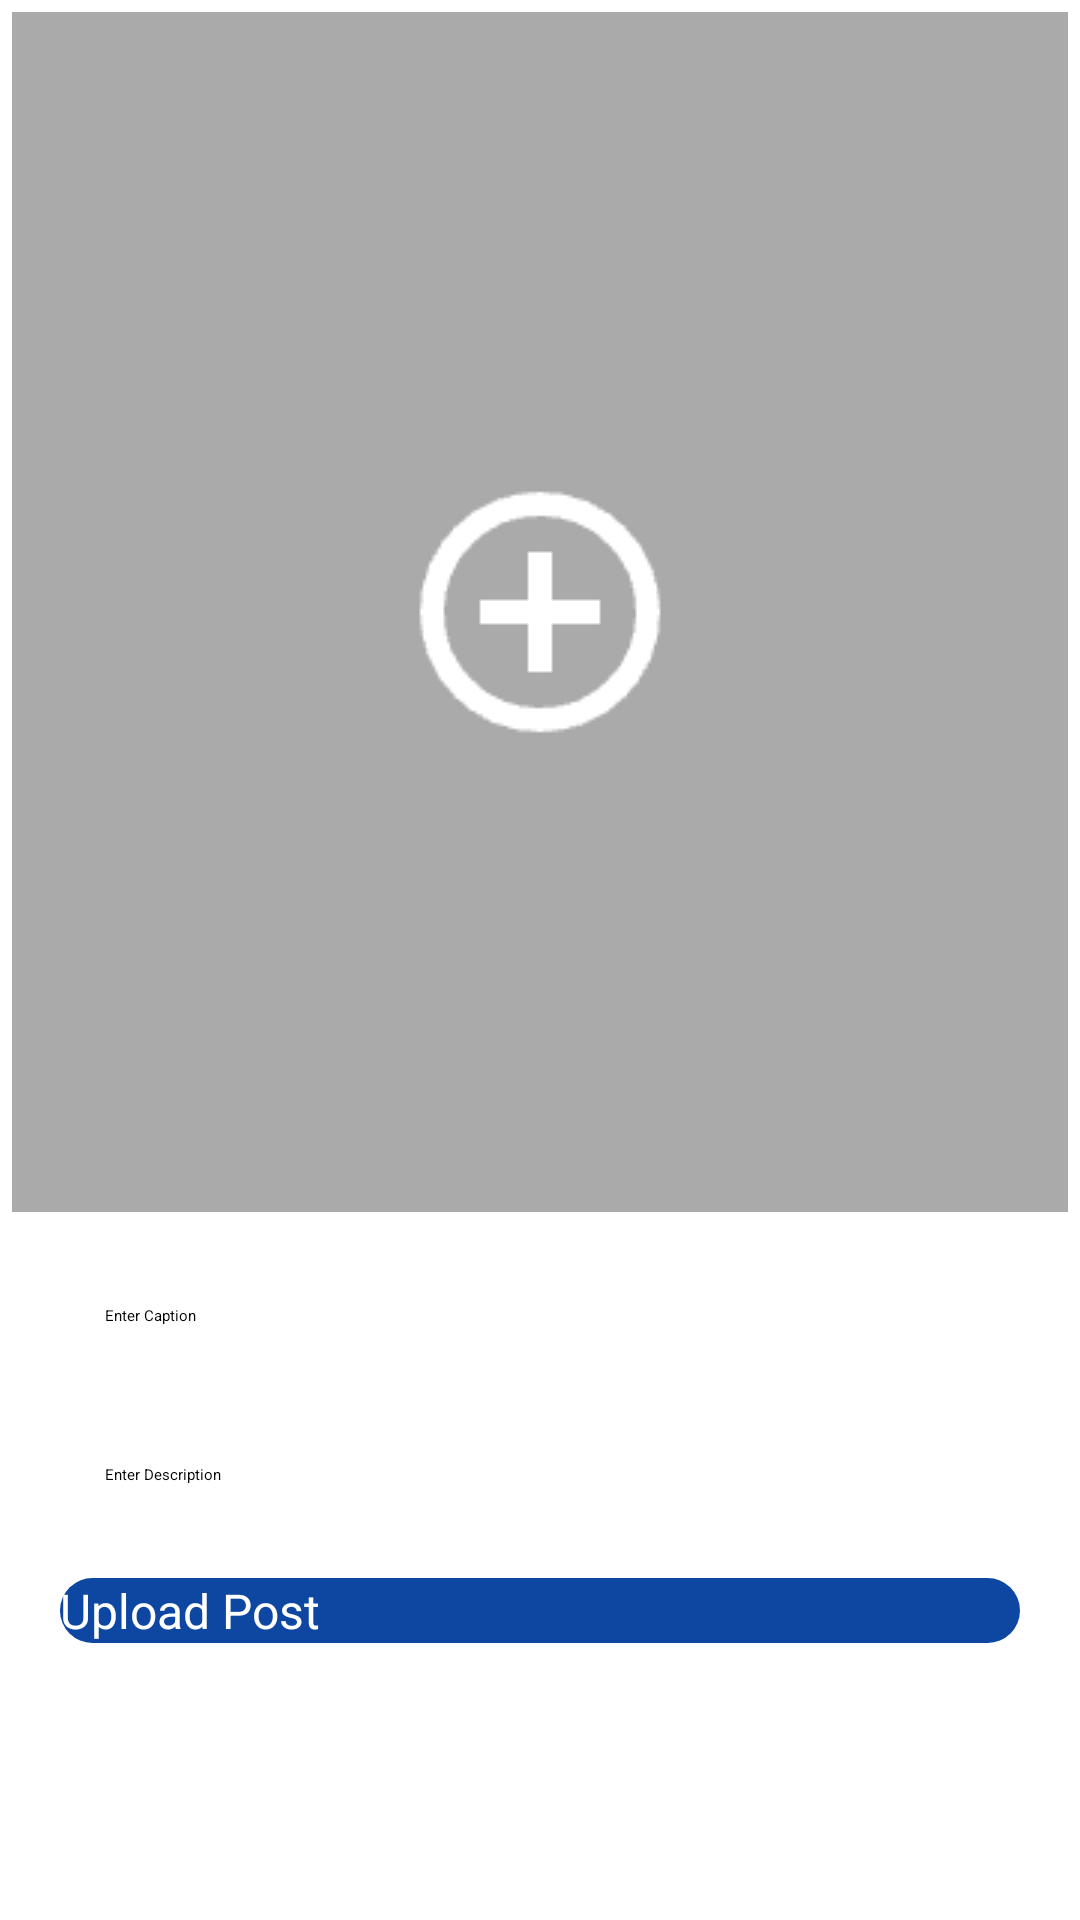

Named icons in this screenshot (1080px×1920px) and their centers, (x,y):
add: (540,612)
